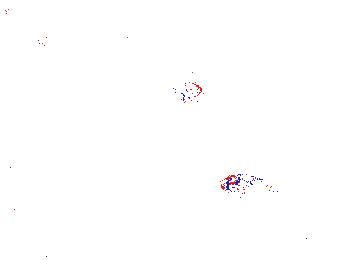X-ray fish: (218, 172, 276, 199)
red belly glassfish: (172, 81, 202, 100)
